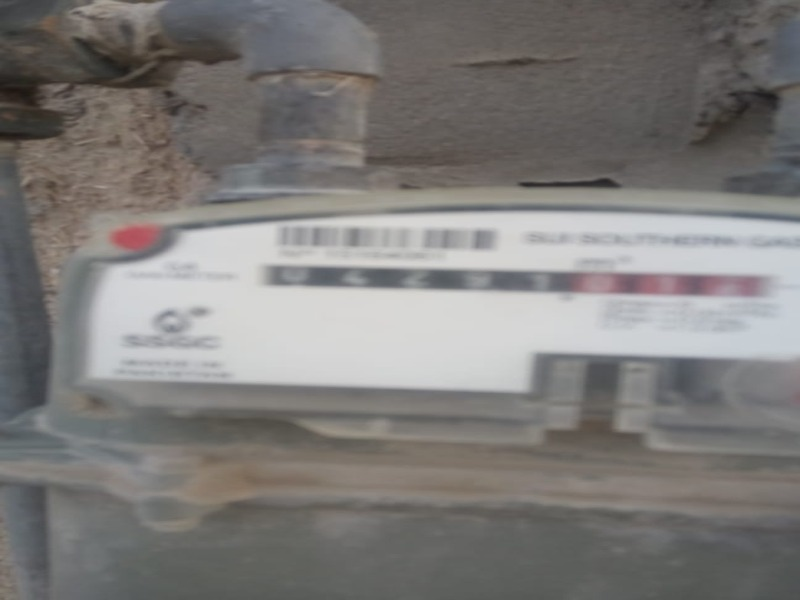ssgc: (256, 260, 776, 301)
